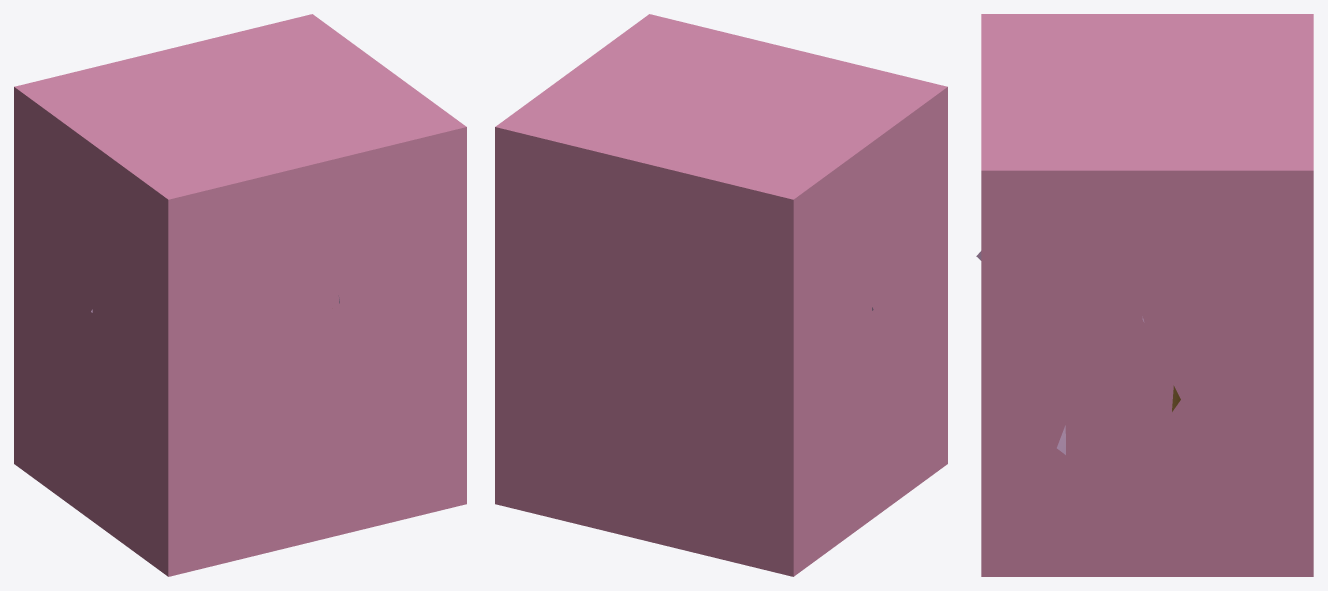
Rendered from tree_aspen_blocker_a.dae.
3 views of the same model, side by side, from view 1: azimuth 30°, elevation 25°; view 2: azimuth 150°, elevation 25°; view 3: azimuth 270°, elevation 25° (orthographic). The views are drawn at different scales.
Parts seen in each view (by area): view 1: Untitled; view 2: Untitled; view 3: Untitled.
Boxes of the visible parts, x1,y1,x2,y2 form: Untitled: (14,14,466,576); Untitled: (495,14,947,576); Untitled: (981,14,1313,576).
Bounding box in the file's own units: 6.19 × 5.41 × 7.61.
